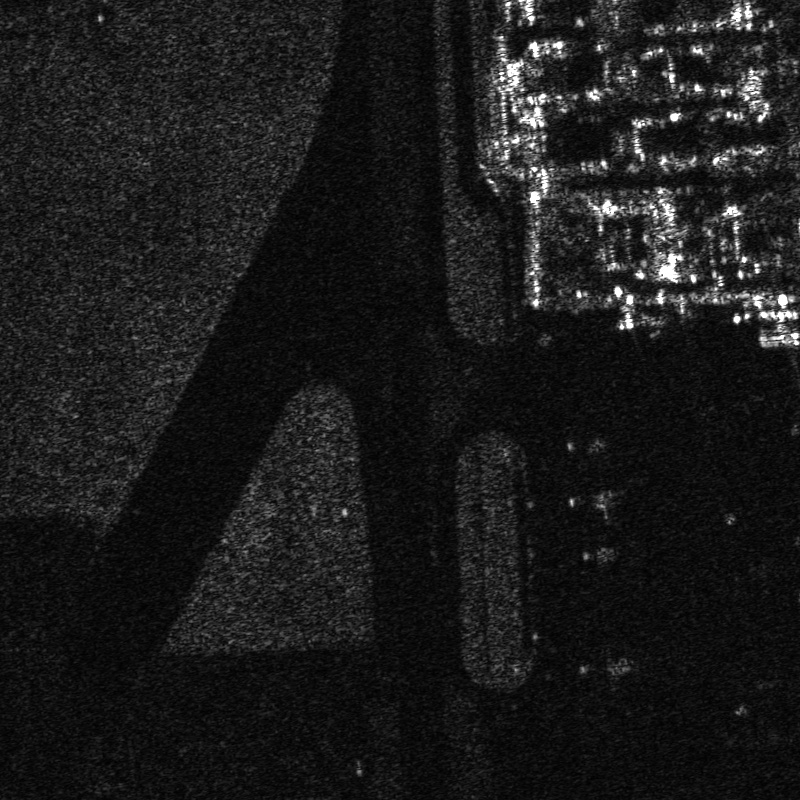ARJ21: (560, 478, 628, 522), (571, 533, 627, 572)
other: (550, 423, 617, 465), (577, 643, 640, 685)
